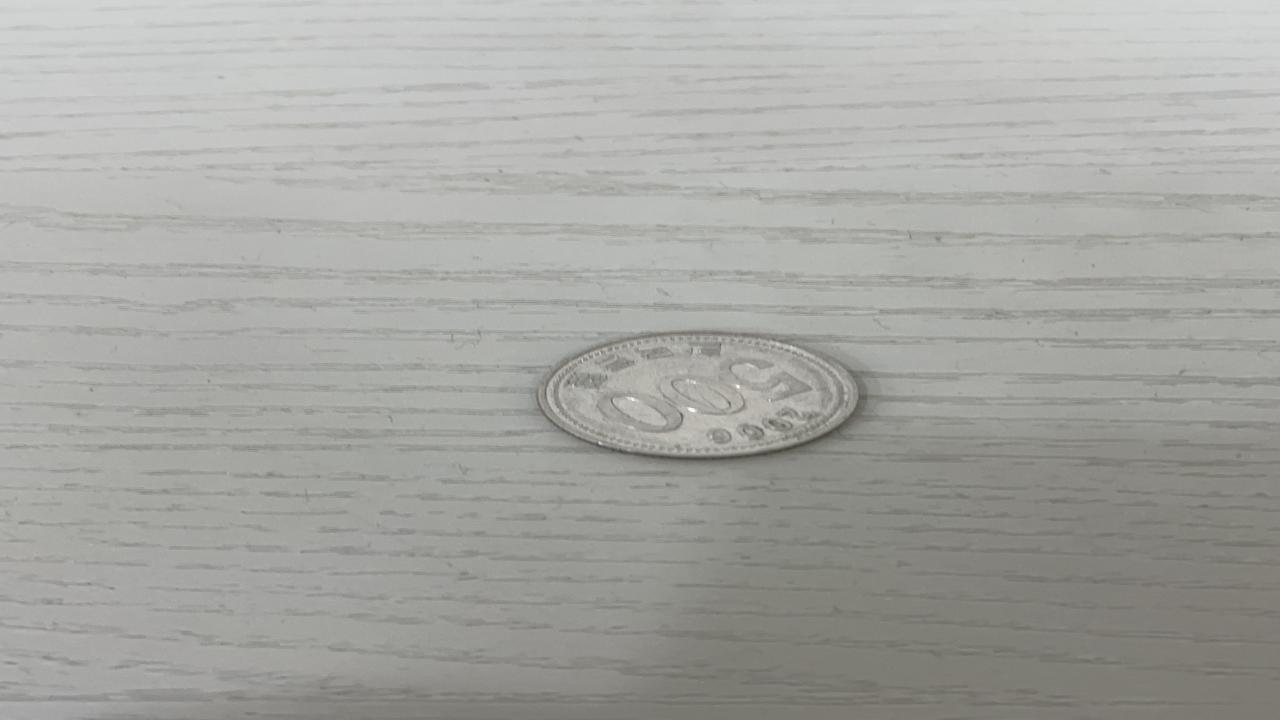coin: (536, 333, 860, 457)
